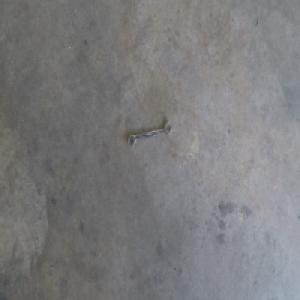Wrench: (127, 121, 171, 148)
